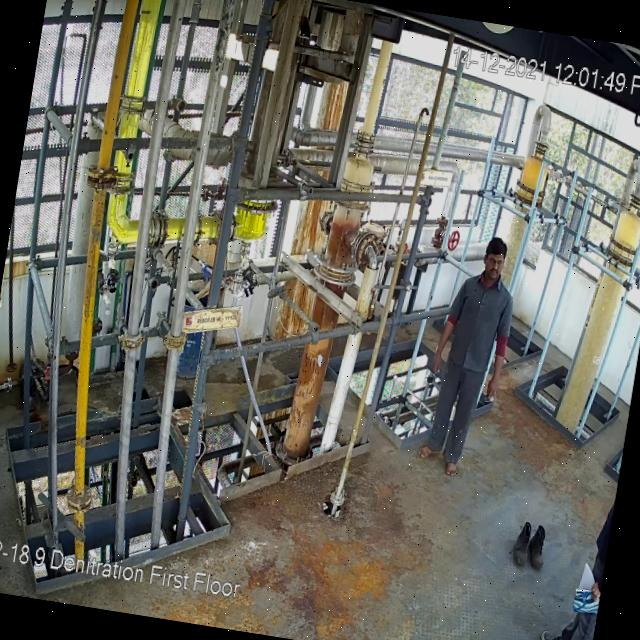boots: (509, 518, 538, 570), (526, 524, 552, 570)
no-boots: (414, 443, 441, 461), (440, 459, 459, 481)
